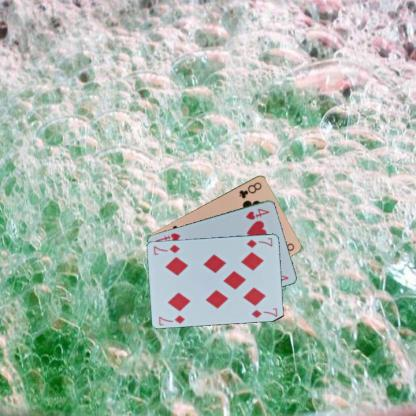4h: (244, 206, 271, 220)
7d: (244, 235, 274, 249), (156, 312, 186, 326)
8c: (236, 179, 263, 199)
